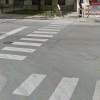crosswalk: (0, 22, 69, 61), (11, 72, 100, 100)
